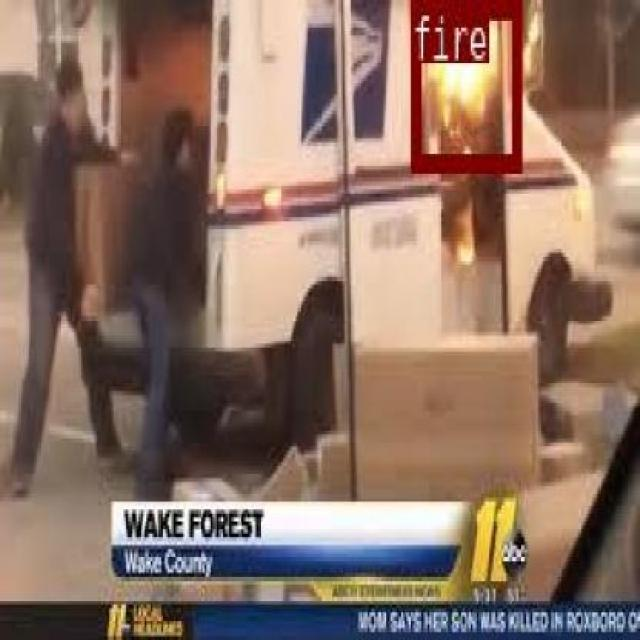Fire: (409, 0, 518, 169)
